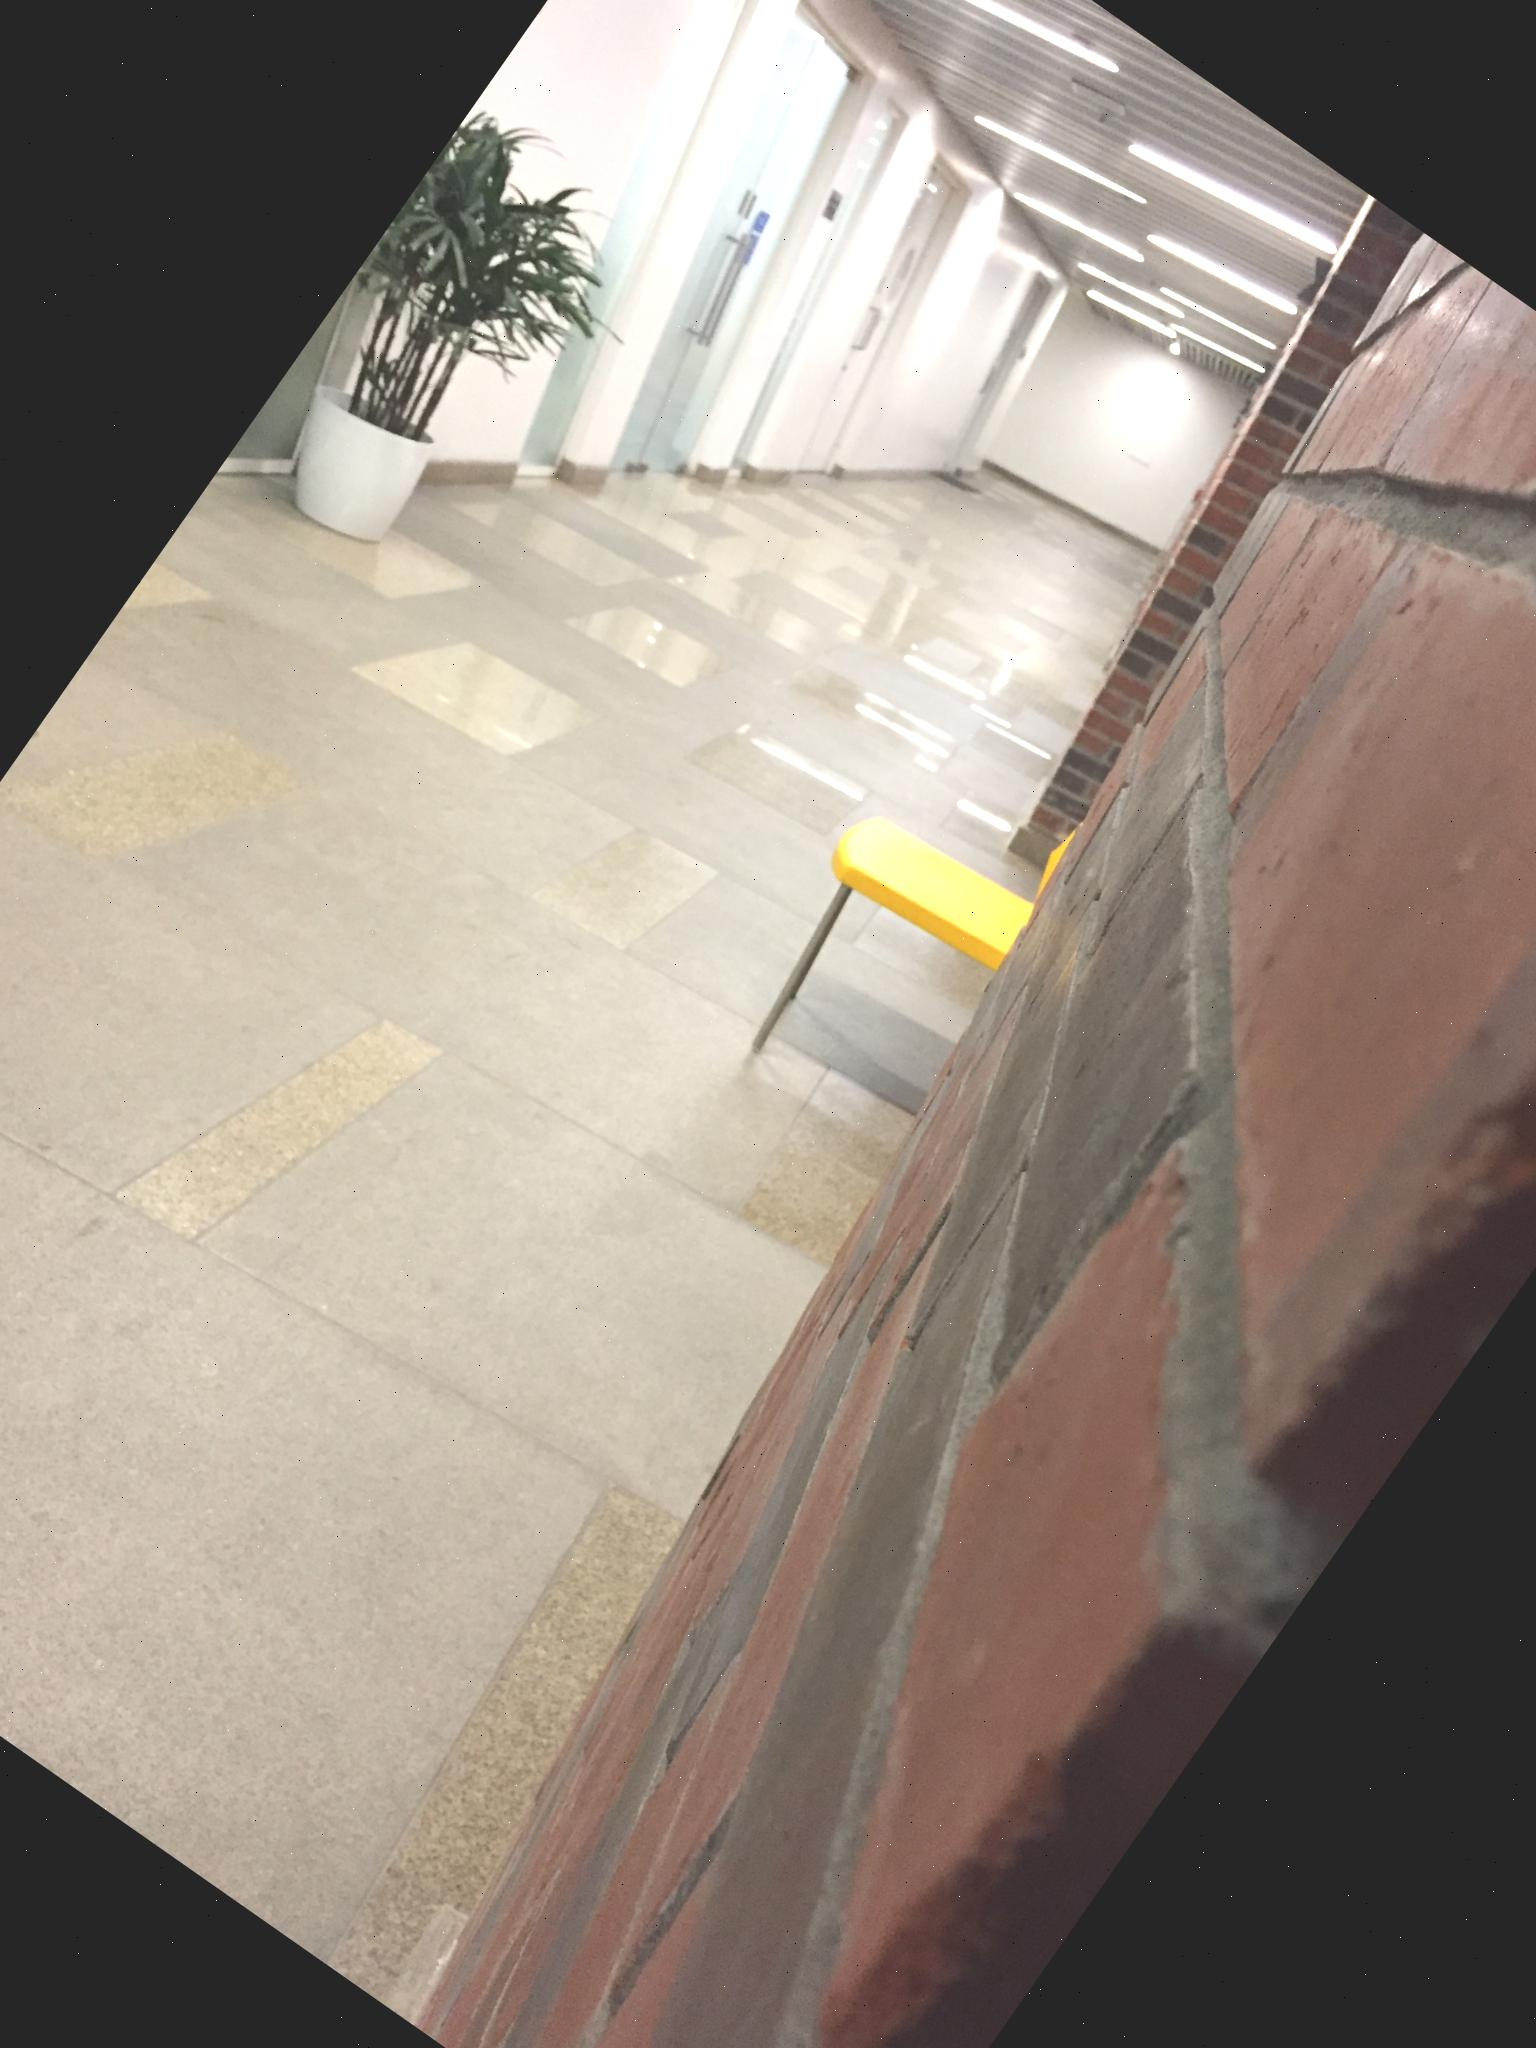chair: (710, 718, 1099, 1145)
